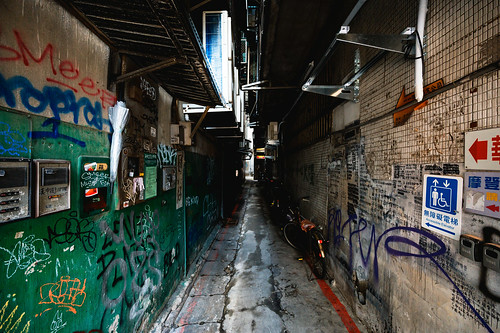bicicle: (275, 190, 333, 279)
graffiti: (1, 213, 172, 333), (315, 202, 461, 309), (1, 34, 121, 134)
wall: (282, 14, 500, 333), (1, 38, 236, 333)
